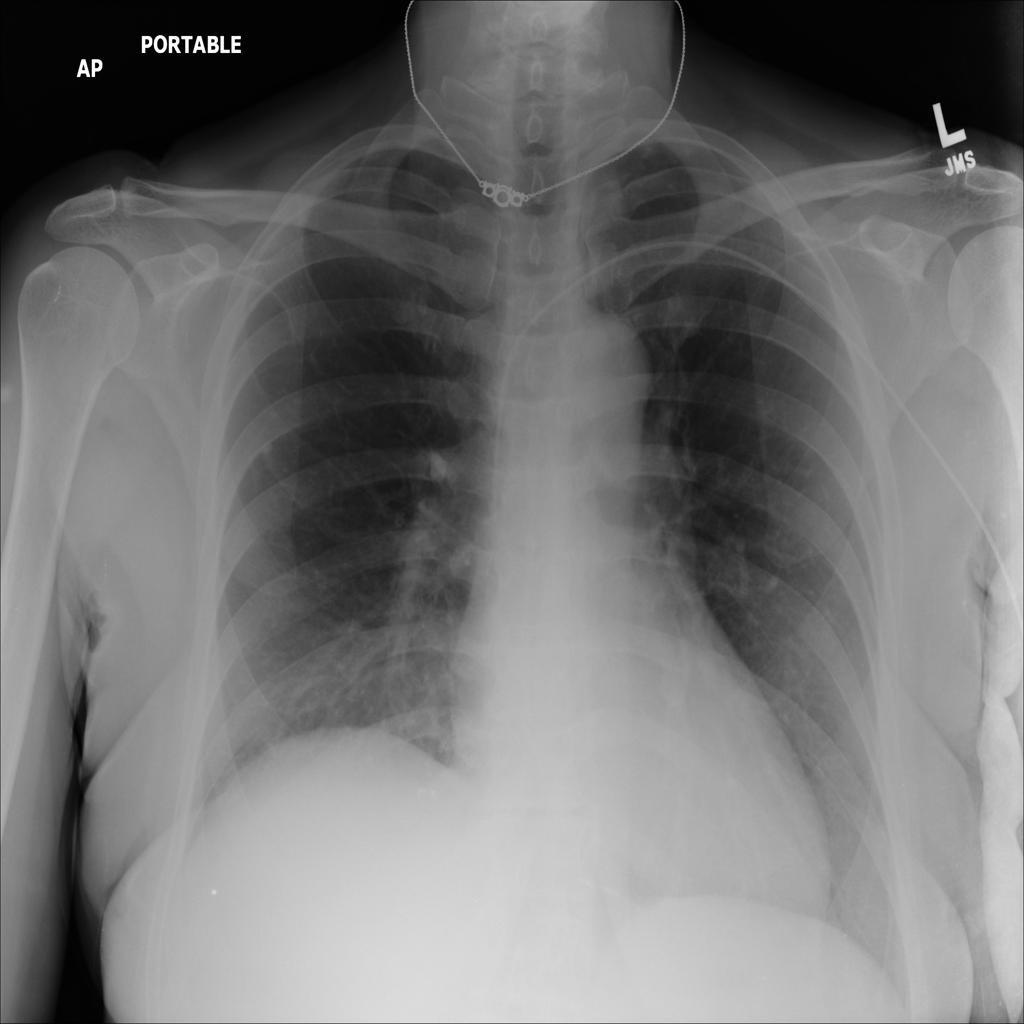nodule: (244, 421, 293, 473)
